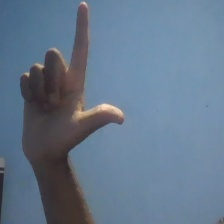L: (17, 1, 126, 167)
